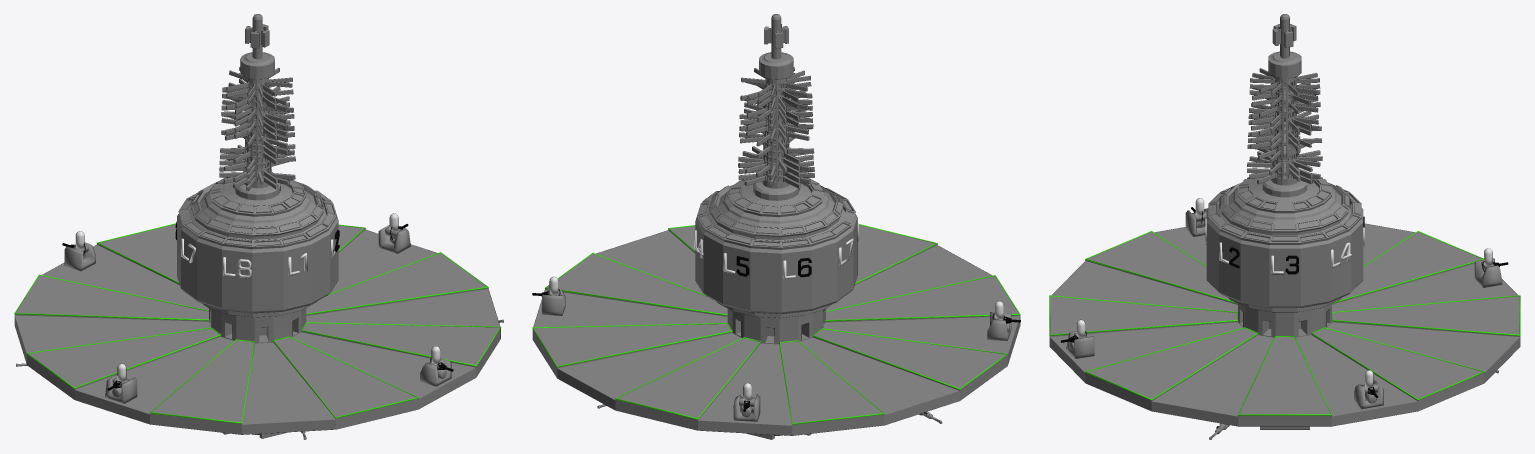
Rendered from Cannoned Outpost 1.fbx.
3 renders of one model, left to right at view 1: azimuth 30°, elevation 25°; view 2: azimuth 150°, elevation 25°; view 3: azimuth 270°, elevation 25°, orthographic.
Visible parts, largest first — view 1: Base Main, Floor Lights, CIWS.002, CIWS.004, CIWS.006, CIWS.007; view 2: Base Main, Floor Lights, CIWS.004, CIWS.006, CIWS.002; view 3: Base Main, Floor Lights, CIWS.004, CIWS.002, CIWS.007, CIWS.006.
Boxes of the visible parts, x1,y1,x2,y2 form: Base Main: [14, 14, 500, 438]; Floor Lights: [14, 223, 501, 423]; CIWS.002: [378, 213, 410, 253]; CIWS.004: [62, 231, 95, 271]; CIWS.006: [105, 363, 137, 403]; CIWS.007: [420, 346, 453, 386]; Base Main: [532, 14, 1020, 439]; Floor Lights: [532, 224, 1020, 424]; CIWS.004: [733, 383, 760, 421]; CIWS.006: [987, 301, 1020, 340]; CIWS.002: [532, 276, 565, 315]; Base Main: [1049, 14, 1520, 429]; Floor Lights: [1049, 231, 1520, 415]; CIWS.004: [1474, 248, 1508, 287]; CIWS.002: [1354, 370, 1383, 409]; CIWS.007: [1060, 319, 1094, 358]; CIWS.006: [1185, 198, 1206, 236].
Size of what is drawn, in the model's own units: 83.09 by 82.87 by 76.74.
